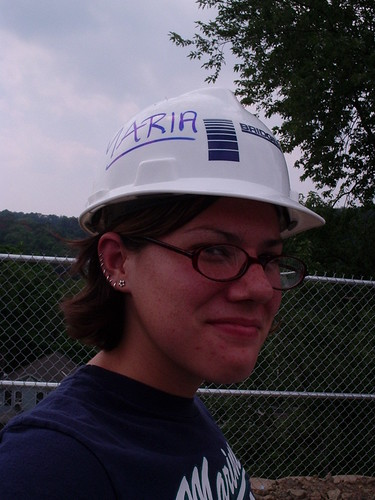person hardhat: (8, 86, 323, 500)
